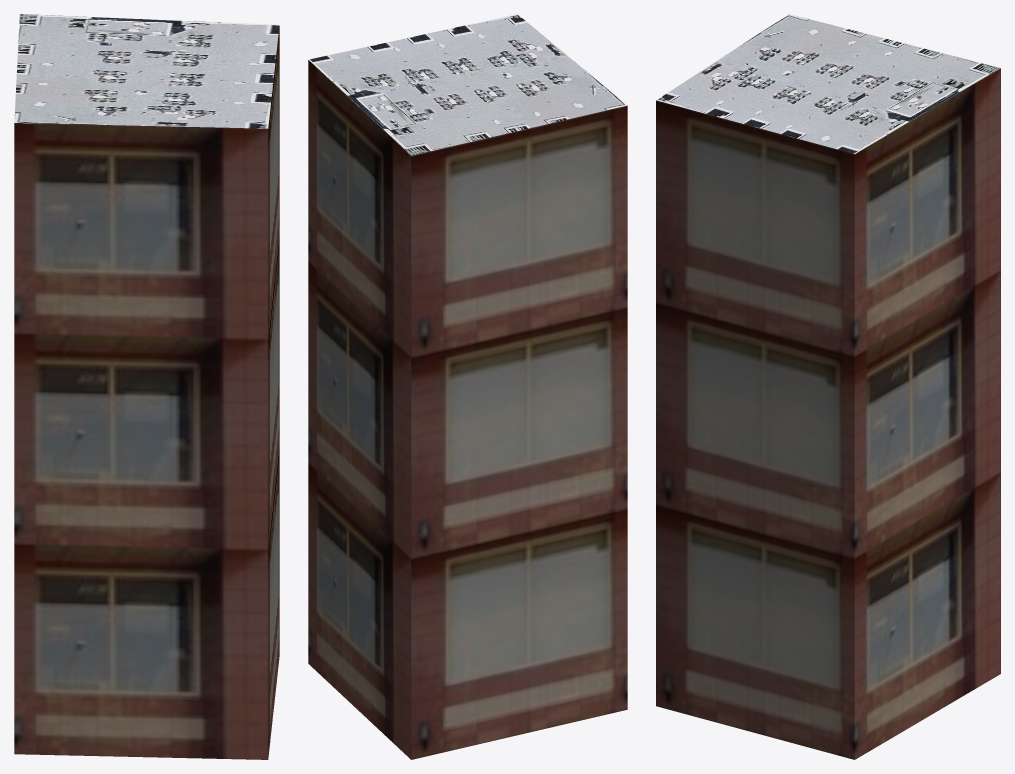
The model's file is ResTex__3102.fbx.
The picture shows the model from 3 angles, left to right: view 1: azimuth 30°, elevation 25°; view 2: azimuth 150°, elevation 25°; view 3: azimuth 270°, elevation 25°; orthographic projection. The views are drawn at different scales.
Parts seen in each view (by area): view 1: CityEngineMaterial_13_m, CityEngineMaterial_8_m; view 2: CityEngineMaterial_13_m, CityEngineMaterial_8_m; view 3: CityEngineMaterial_13_m, CityEngineMaterial_8_m.
Boxes of the visible parts, bbox=[...] form: CityEngineMaterial_13_m: bbox=[14, 26, 279, 759]; CityEngineMaterial_8_m: bbox=[14, 14, 279, 128]; CityEngineMaterial_13_m: bbox=[308, 60, 627, 759]; CityEngineMaterial_8_m: bbox=[309, 14, 626, 155]; CityEngineMaterial_13_m: bbox=[656, 68, 1000, 759]; CityEngineMaterial_8_m: bbox=[656, 14, 1000, 153].
Bounding box in the file's own units: 4.47 × 9 × 4.64.
2 materials, 2 textured.
